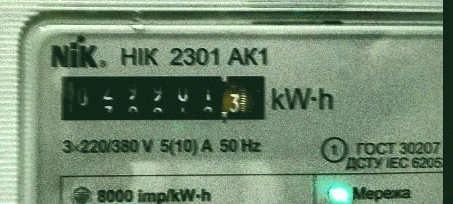0: (175, 78, 189, 103), (74, 85, 90, 106)
1: (200, 79, 213, 102)
2: (99, 82, 115, 101)
3: (227, 90, 240, 112)
9: (150, 80, 164, 102), (125, 80, 137, 102)
screen: (48, 65, 275, 129)
